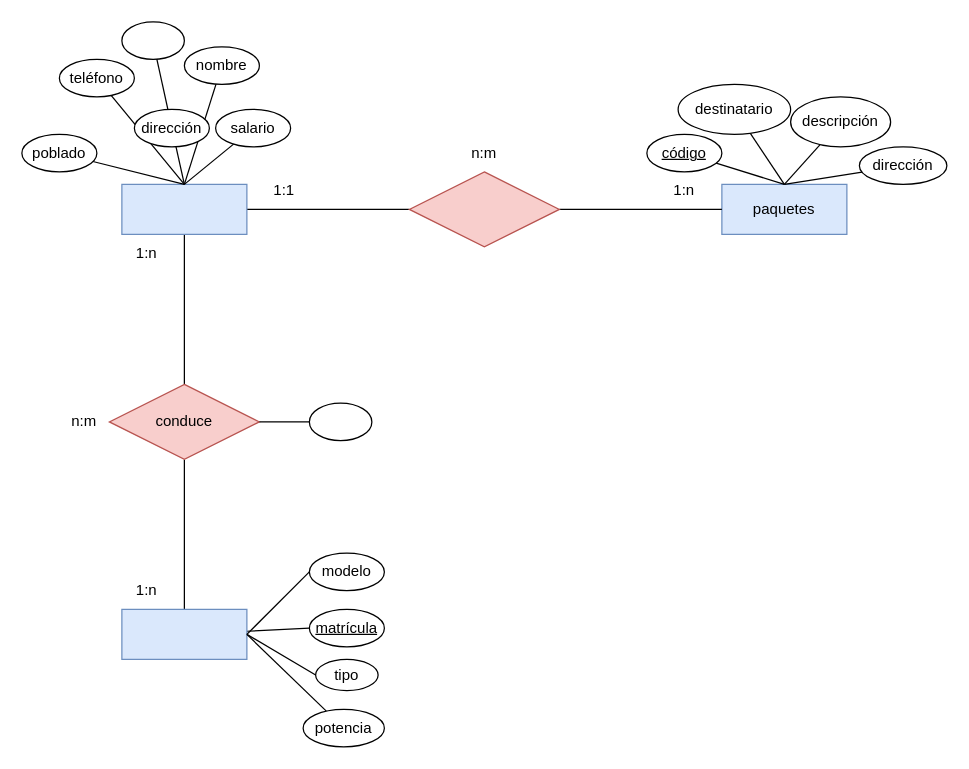
Image size: 969x769. Some labels were removed from this diagram. The shapes that lost their labels are listed below. From the top down, each one's centre as x and y in pixels, then its label:
point 152,40: DNI
point 184,208: Camionero
point 483,209: lleva
point 340,421: fecha
point 184,633: camión
